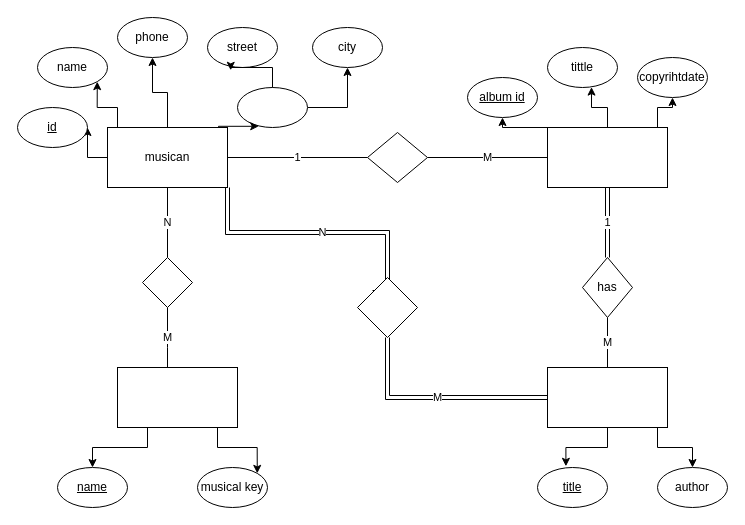
Image size: 745x525. Some labels were removed from this diagram. Each missing label, with the centre of its shape:
"adress" belongs at point (272, 107).
"album" belongs at point (607, 157).
"instrument" belongs at point (177, 397).
"perform" belongs at point (387, 307).
"play" belongs at point (167, 282).
"producer" belongs at point (397, 157).
"song" belongs at point (607, 397).
